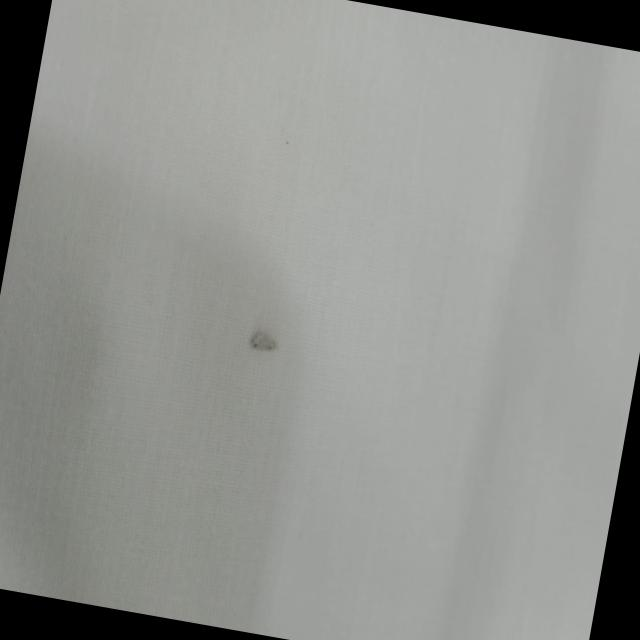stain: (237, 312, 290, 362)
